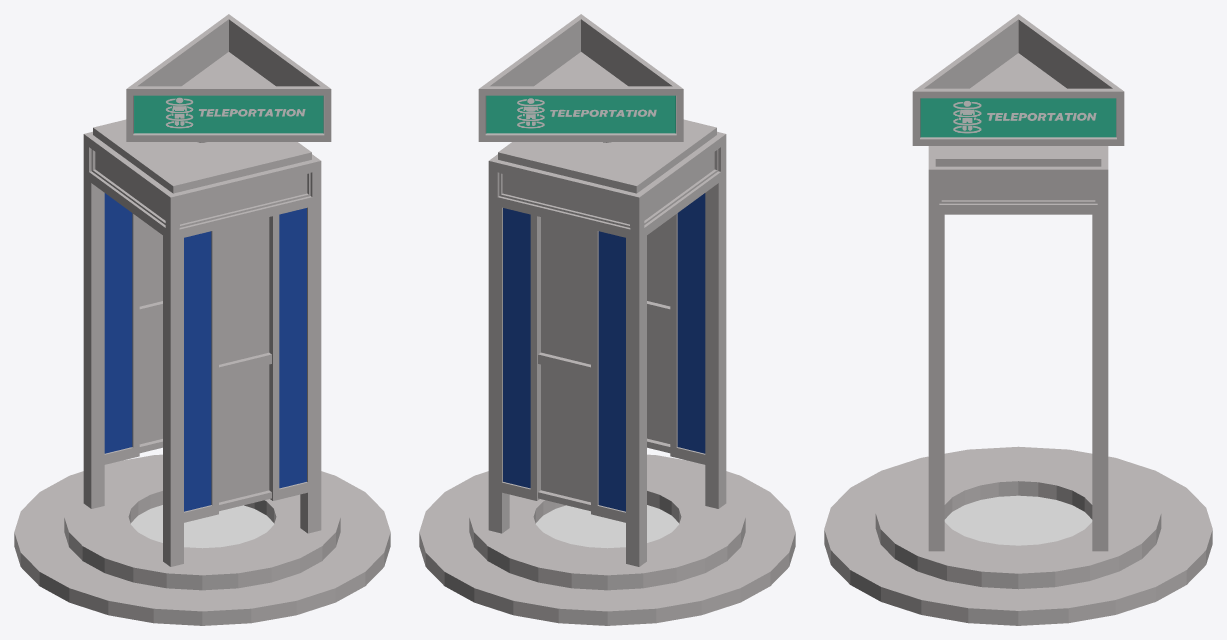
File: D1_TELETRANSPORTATION.fbx
The picture shows the model from 3 angles, left to right: view 1: azimuth 30°, elevation 25°; view 2: azimuth 150°, elevation 25°; view 3: azimuth 270°, elevation 25°; orthographic projection. The views are drawn at different scales.
Parts seen in each view (by area): view 1: Cylinder.006; view 2: Cylinder.006; view 3: Cylinder.006.
Part boxes in pixels (x1,y1,x2,y2): Cylinder.006: (14,14,390,625); Cylinder.006: (419,14,795,625); Cylinder.006: (824,14,1212,625).
Bounding box in the file's own units: 239 × 333 × 239.
Materials: 4 (1 with a texture image).
